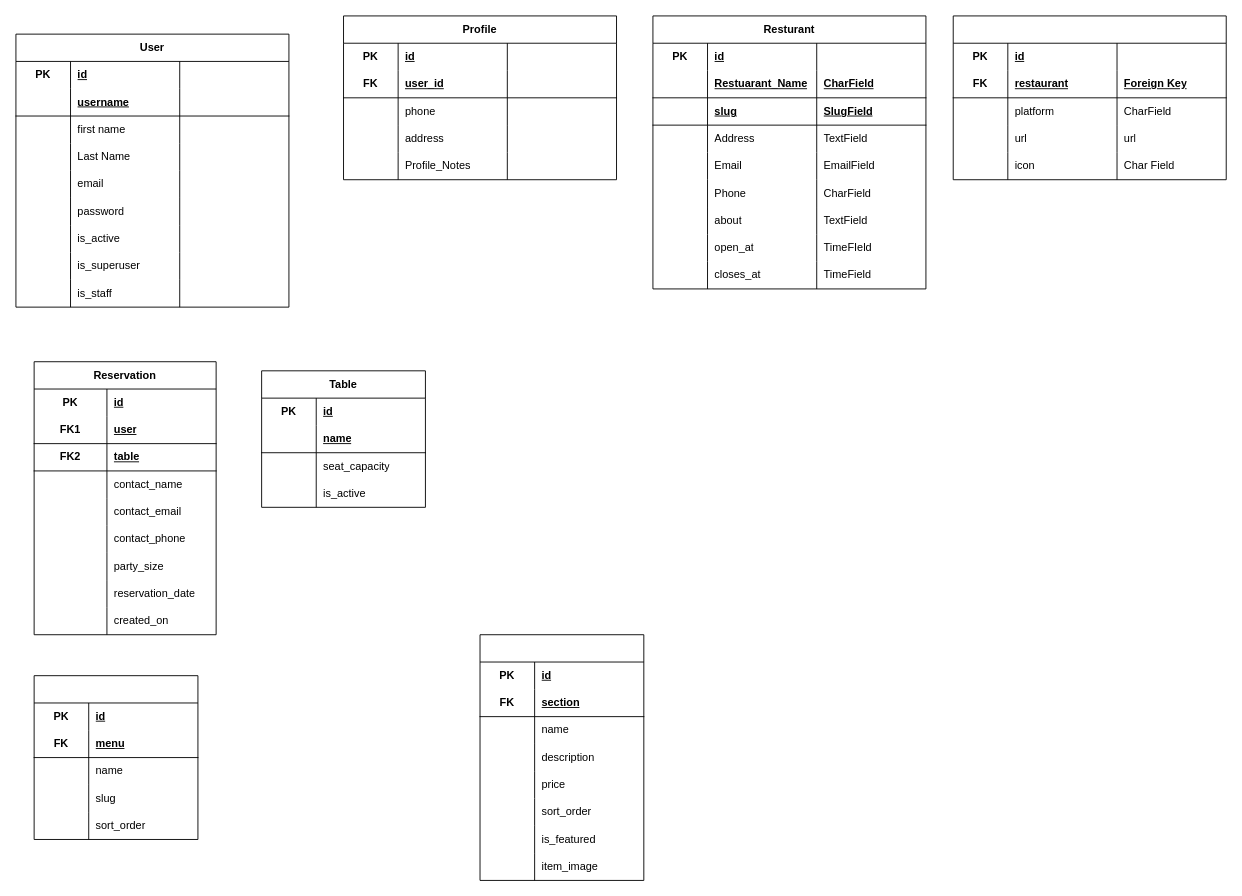
Some shapes in this 1242 by 896 pixel diagram are drawn without their labels. The shapes that lost their labels are listed below. From the top down, each one's box as (x1, y1, x2, y2) in pixels, then its label:
(952, 15, 1226, 180): Social Links
(33, 675, 198, 839): Menu Category
(479, 634, 644, 880): Menu Item
